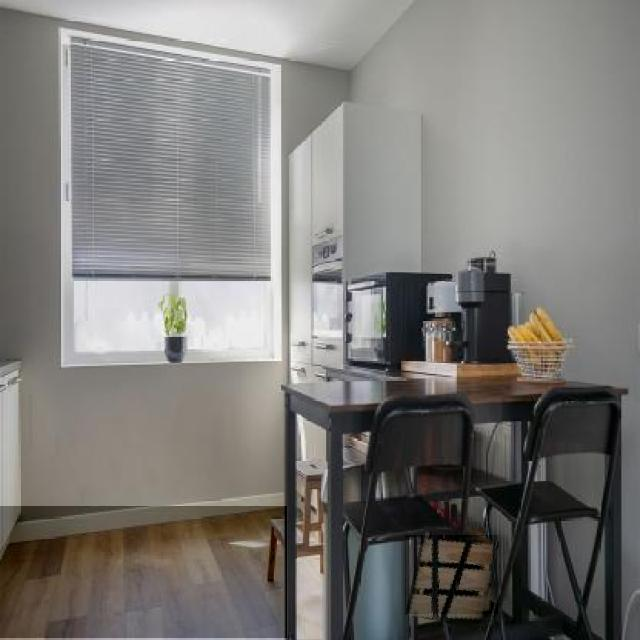floor: (0, 506, 287, 638), (405, 536, 498, 614), (298, 553, 322, 639)
